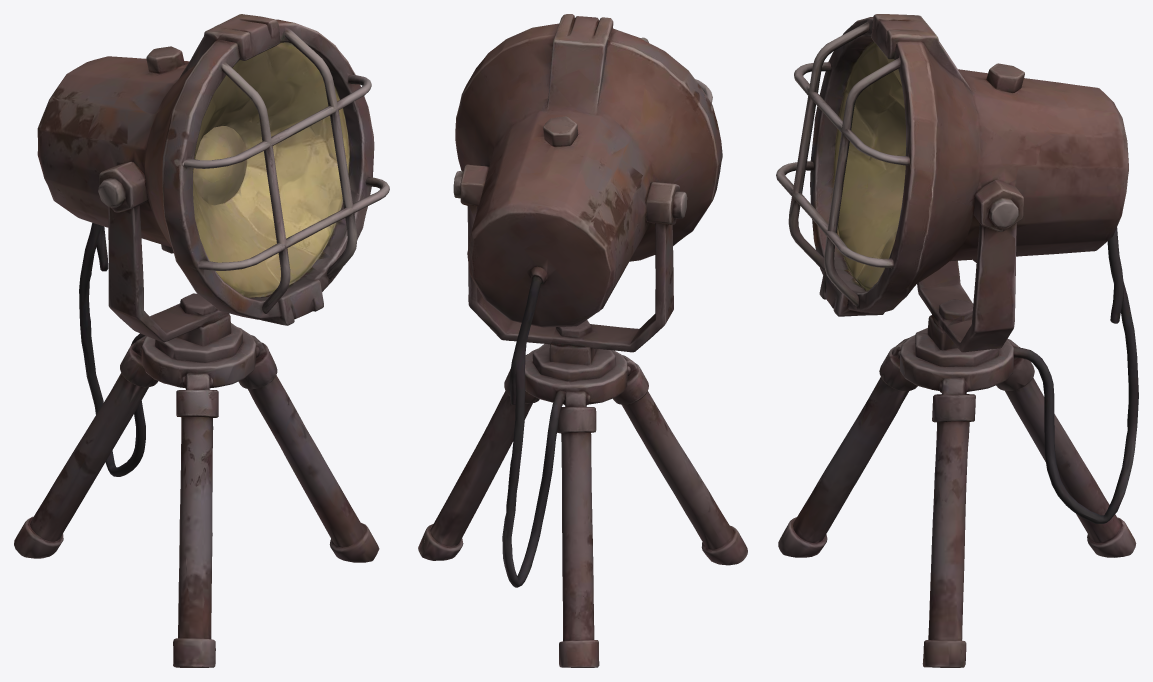
File: mine_floodlight_c_idle.glb
3 views of the same model, side by side, from view 1: azimuth 30°, elevation 25°; view 2: azimuth 150°, elevation 25°; view 3: azimuth 270°, elevation 25° (orthographic). The views are drawn at different scales.
Parts seen in each view (by area): view 1: tripo_node_e2127a81-c713-40c5-b32b-1f02bdc02e5a; view 2: tripo_node_e2127a81-c713-40c5-b32b-1f02bdc02e5a; view 3: tripo_node_e2127a81-c713-40c5-b32b-1f02bdc02e5a.
Boxes of the visible parts, x1,y1,x2,y2 form: tripo_node_e2127a81-c713-40c5-b32b-1f02bdc02e5a: (14,14,389,667); tripo_node_e2127a81-c713-40c5-b32b-1f02bdc02e5a: (418,14,747,667); tripo_node_e2127a81-c713-40c5-b32b-1f02bdc02e5a: (776,14,1138,667).
Size of the model in its own units: 0.8949 by 1.8 by 1.02.
Materials: 1 (1 with a texture image).
